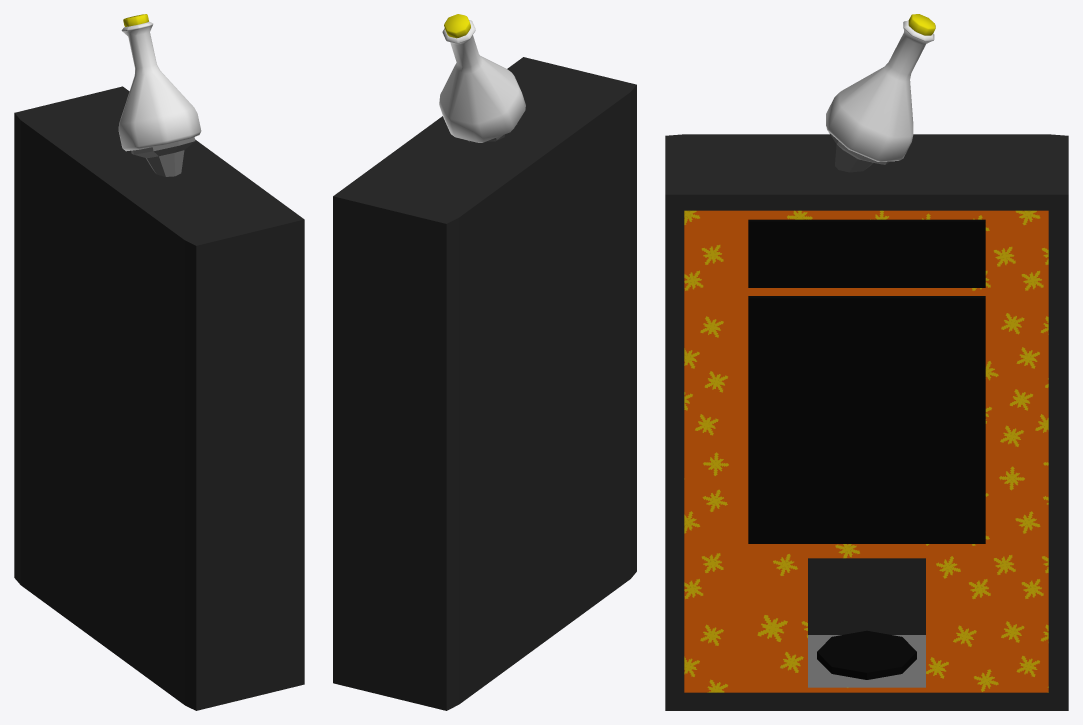
File: VendingMachine2.fbx
3 views of the same model, side by side, from view 1: azimuth 30°, elevation 25°; view 2: azimuth 150°, elevation 25°; view 3: azimuth 270°, elevation 25° (orthographic). The views are drawn at different scales.
Visible parts, largest first — view 1: VendingMachine; view 2: VendingMachine; view 3: VendingMachine.
Part boxes in pixels (x1,y1,x2,y2): VendingMachine: (14, 14, 304, 710); VendingMachine: (333, 14, 636, 710); VendingMachine: (665, 14, 1068, 710).
Bounding box in the file's own units: 54.4 × 19.85 × 99.03.
